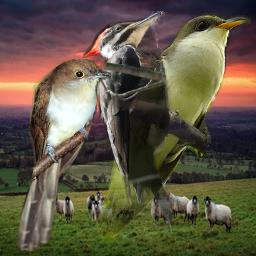Cuckoo: (93, 13, 251, 244), (17, 57, 111, 251)
Woodpecker: (83, 11, 172, 238)
